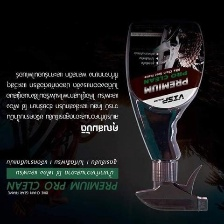cleaning_solution: (122, 3, 213, 216)
